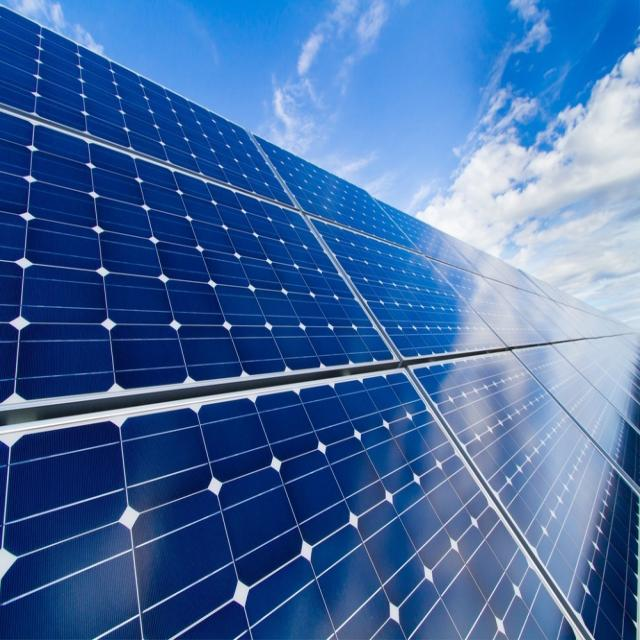clean-solar-panel: (1, 7, 640, 637)
